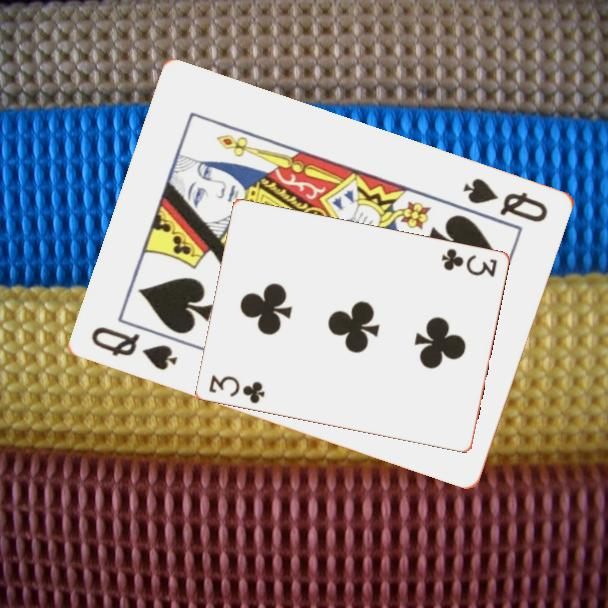c03: (205, 371, 268, 407), (438, 245, 500, 280)
s12: (88, 322, 182, 373), (460, 174, 552, 225)
